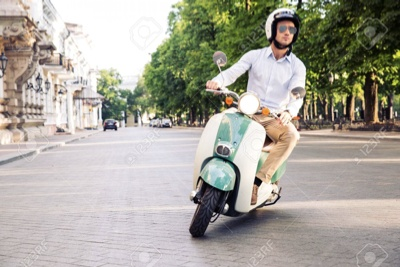helmet: (262, 5, 301, 51)
